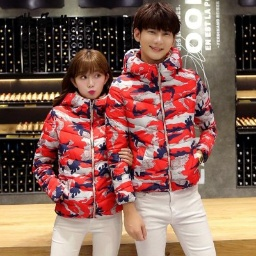face: (132, 3, 184, 68), (54, 43, 111, 102)
